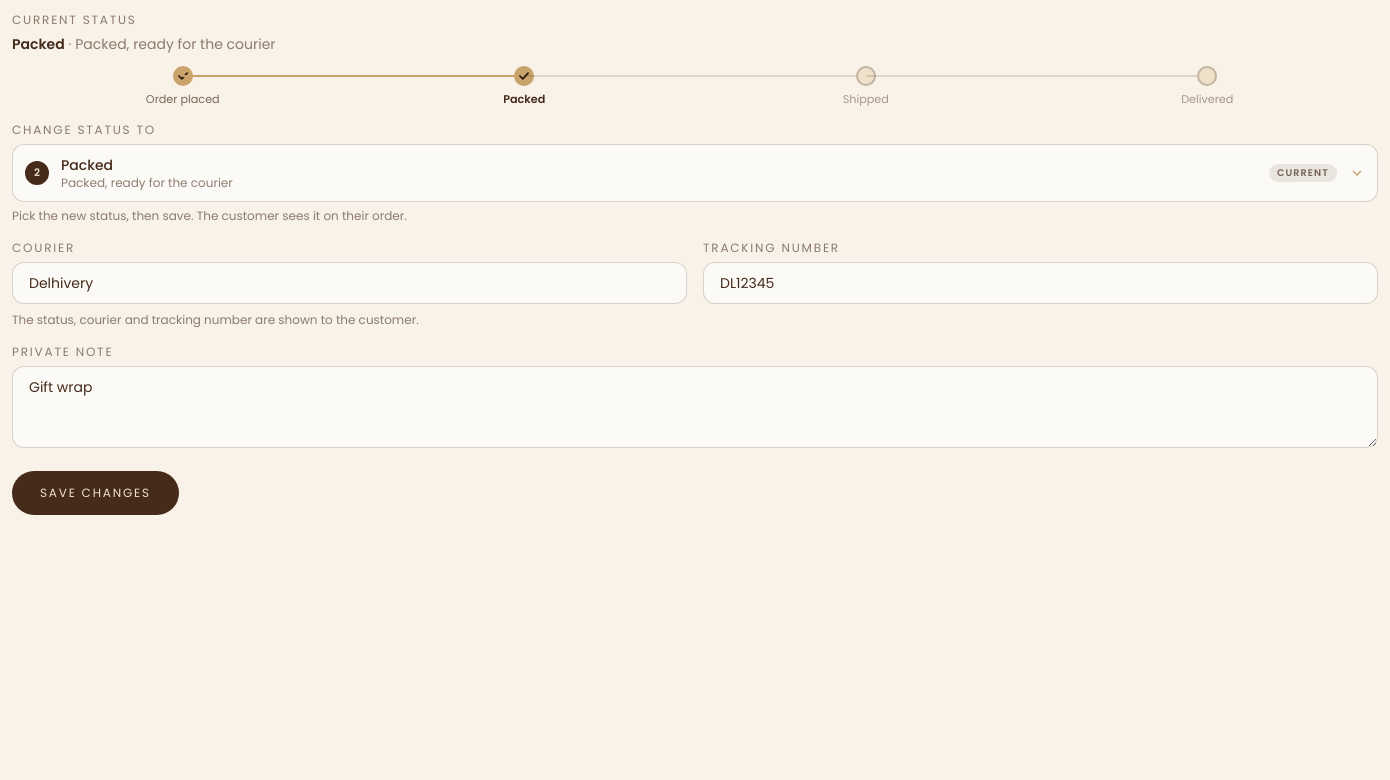
Test: OrderUpdateForm › picking a new status says what saving will do and names it on the button
This screenshot has width=1390, height=780.
Step 1. Click the dropdown named "Change status to" → (87, 165), box [12,144,1378,202]
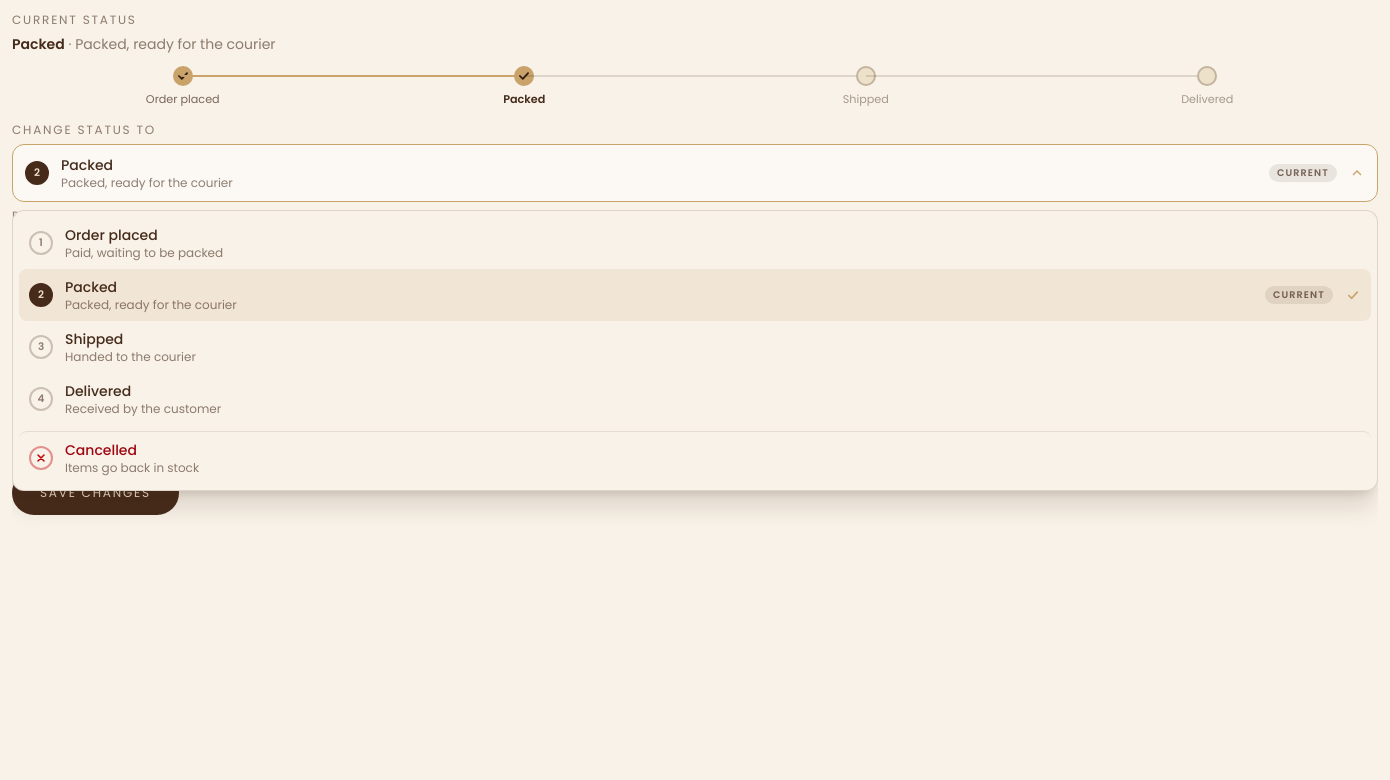
Step 2. Click the option "3 Shipped Handed to the courier" → (112, 347), box [29,329,196,365]
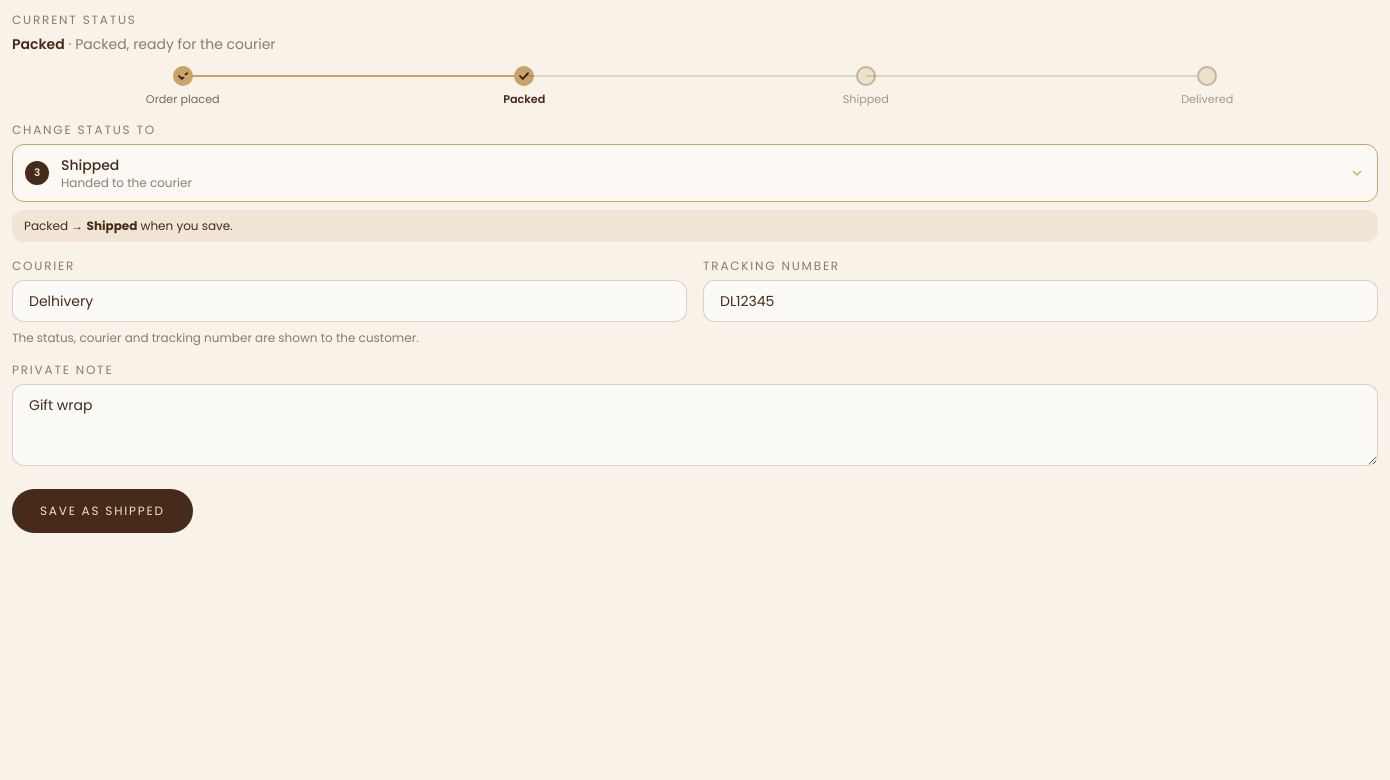
expect the text "Packed → Shipped when you save." is shown: met, box [12,210,1378,242]
expect the button "Save as Shipped" is shown: met, box [12,489,193,533]
